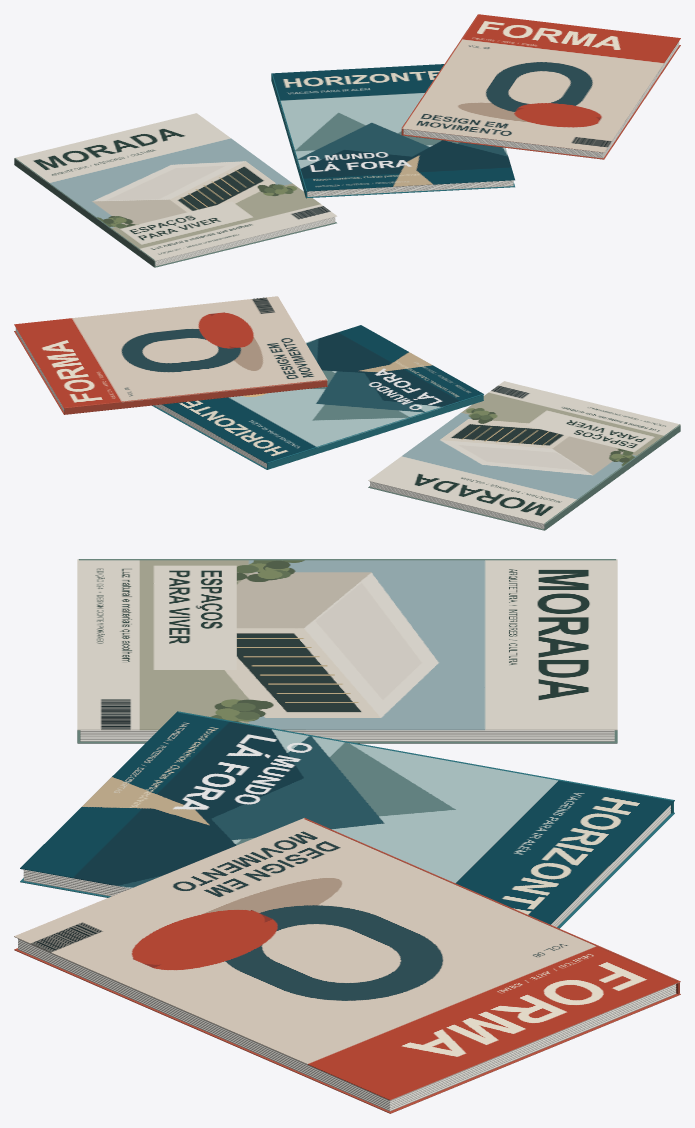
The model's file is revistas.glb.
3 renders of one model, top to bottom at view 1: azimuth 30°, elevation 25°; view 2: azimuth 150°, elevation 25°; view 3: azimuth 270°, elevation 25°, orthographic. The views are drawn at different scales.
Parts seen in each view (by area): view 1: Capa editorial, Capa editorial.002, Capa editorial.001, Lombada encadernada, Contracapa.002, Contracapa, Lombada encadernada.001, Miolo paginas 1.002, Miolo paginas 4.002, Miolo paginas 2.002, Miolo paginas 0.002, Miolo paginas 3.002; view 2: Capa editorial.002, Capa editorial, Capa editorial.001, Lombada encadernada.002, Lombada encadernada.001, Lombada encadernada, Contracapa.002, Contracapa.001, Contracapa; view 3: Capa editorial.002, Capa editorial, Capa editorial.001, Contracapa.002, Miolo paginas 4.002, Miolo paginas 5.002, Miolo paginas 0.002, Miolo paginas 1.002, Miolo paginas 3.002, Miolo paginas 2.002, Miolo paginas 4, Contracapa (+6 smaller).
Boxes of the visible parts, <box> form: Capa editorial: <box>14,113,336,261</box>; Capa editorial.002: <box>401,14,680,152</box>; Capa editorial.001: <box>271,64,514,191</box>; Lombada encadernada: <box>14,158,155,267</box>; Contracapa.002: <box>401,45,680,159</box>; Contracapa: <box>14,164,336,267</box>; Lombada encadernada.001: <box>271,73,306,197</box>; Miolo paginas 1.002: <box>403,44,679,157</box>; Miolo paginas 4.002: <box>403,41,679,154</box>; Miolo paginas 2.002: <box>403,43,679,156</box>; Miolo paginas 0.002: <box>403,45,679,158</box>; Miolo paginas 3.002: <box>403,42,679,155</box>; Capa editorial.002: <box>14,296,327,408</box>; Capa editorial: <box>368,381,680,524</box>; Capa editorial.001: <box>162,325,483,463</box>; Lombada encadernada.002: <box>64,379,327,414</box>; Lombada encadernada.001: <box>267,394,483,469</box>; Lombada encadernada: <box>544,424,680,529</box>; Contracapa.002: <box>14,331,327,414</box>; Contracapa.001: <box>152,400,483,469</box>; Contracapa: <box>368,431,680,530</box>; Capa editorial.002: <box>14,818,680,1100</box>; Capa editorial: <box>77,559,617,730</box>; Capa editorial.001: <box>20,711,674,924</box>; Contracapa.002: <box>14,948,680,1113</box>; Miolo paginas 4.002: <box>18,941,676,1104</box>; Miolo paginas 5.002: <box>18,940,676,1102</box>; Miolo paginas 0.002: <box>18,948,676,1111</box>; Miolo paginas 1.002: <box>18,946,676,1109</box>; Miolo paginas 3.002: <box>18,943,676,1106</box>; Miolo paginas 2.002: <box>18,945,676,1107</box>; Miolo paginas 4: <box>80,733,614,735</box>; Contracapa: <box>77,730,617,743</box>.
Bounding box in the file's own units: 0.6986 × 0.024 × 0.3457.
Materials: 8 (3 with a texture image).
